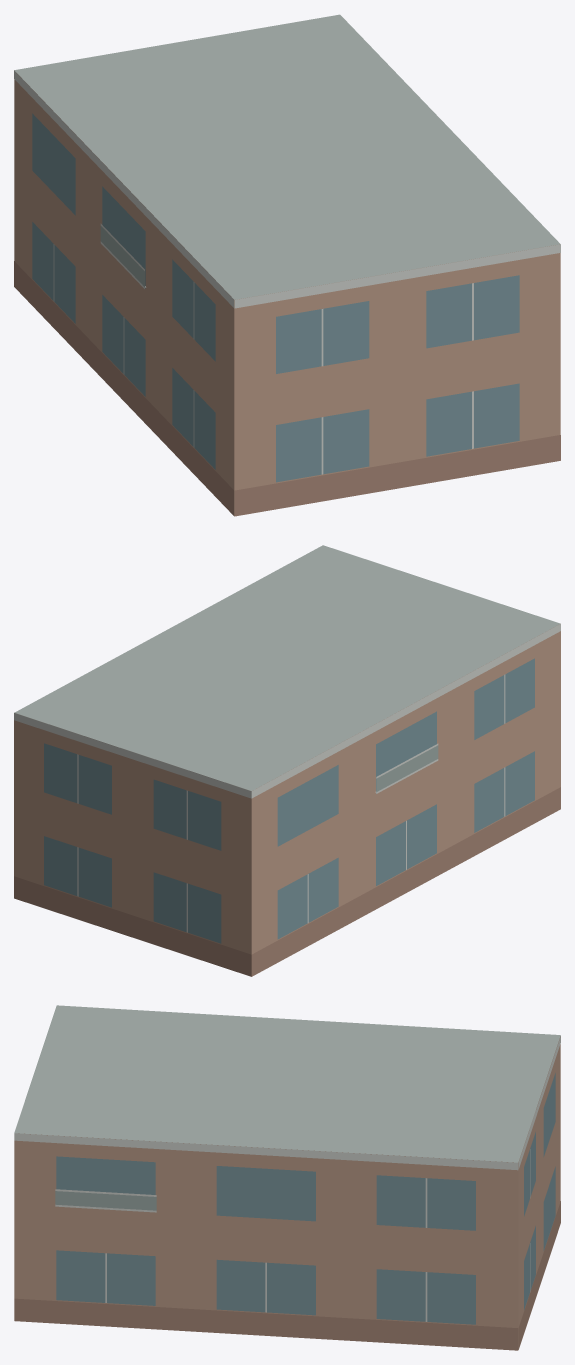
The model's file is survey-upis-32801432.glb.
3 views of the same model, one above another, from view 1: azimuth 30°, elevation 25°; view 2: azimuth 150°, elevation 25°; view 3: azimuth 270°, elevation 25° (orthographic). The views are drawn at different scales.
Visible parts, largest first — view 1: survey-upis-32801432.tmp; view 2: survey-upis-32801432.tmp; view 3: survey-upis-32801432.tmp.
Part boxes in pixels (x1,y1,x2,y2): survey-upis-32801432.tmp: (14, 14, 560, 516); survey-upis-32801432.tmp: (14, 545, 560, 976); survey-upis-32801432.tmp: (14, 1005, 560, 1350).
Bounding box in the file's own units: 10.97 × 6.1 × 16.1.
